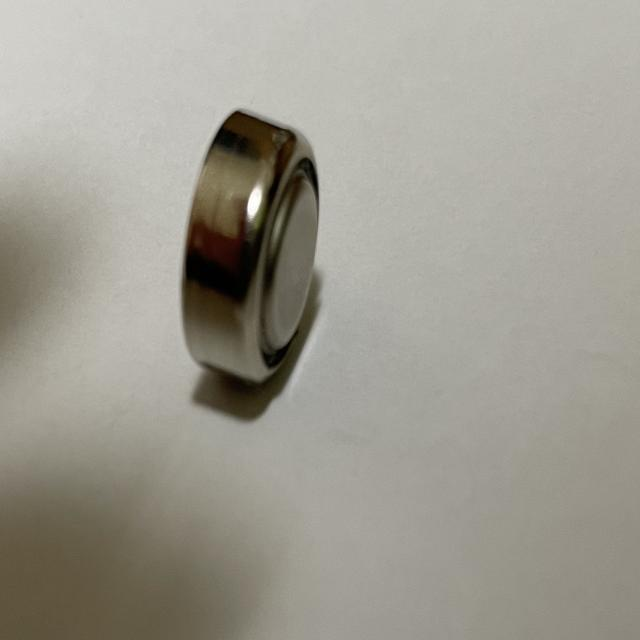COIN: (182, 106, 320, 391)
